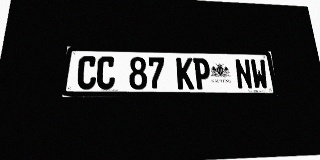7: (147, 57, 165, 89)
8: (129, 57, 147, 89)
C: (76, 56, 97, 89), (96, 56, 116, 89)
K: (176, 58, 194, 89)
N: (234, 59, 253, 89)
P: (193, 58, 211, 89)
W: (250, 59, 269, 89)
